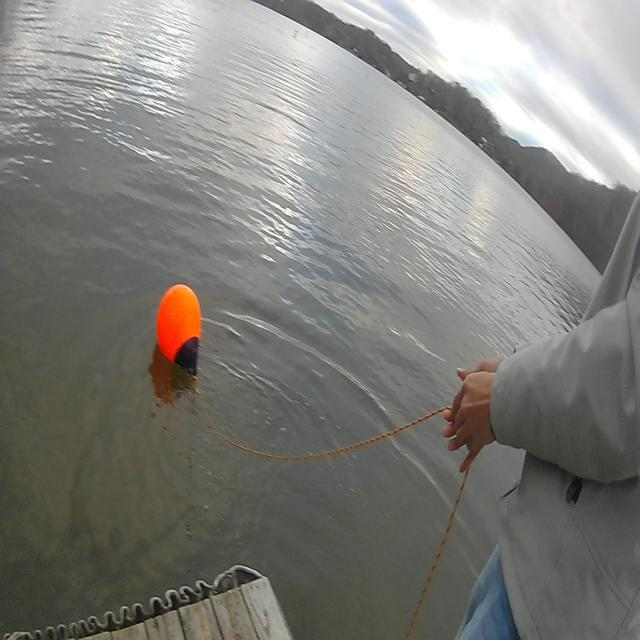Buoy: (147, 272, 216, 391)
